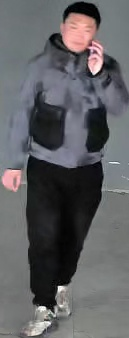phone: (64, 13, 128, 113)
